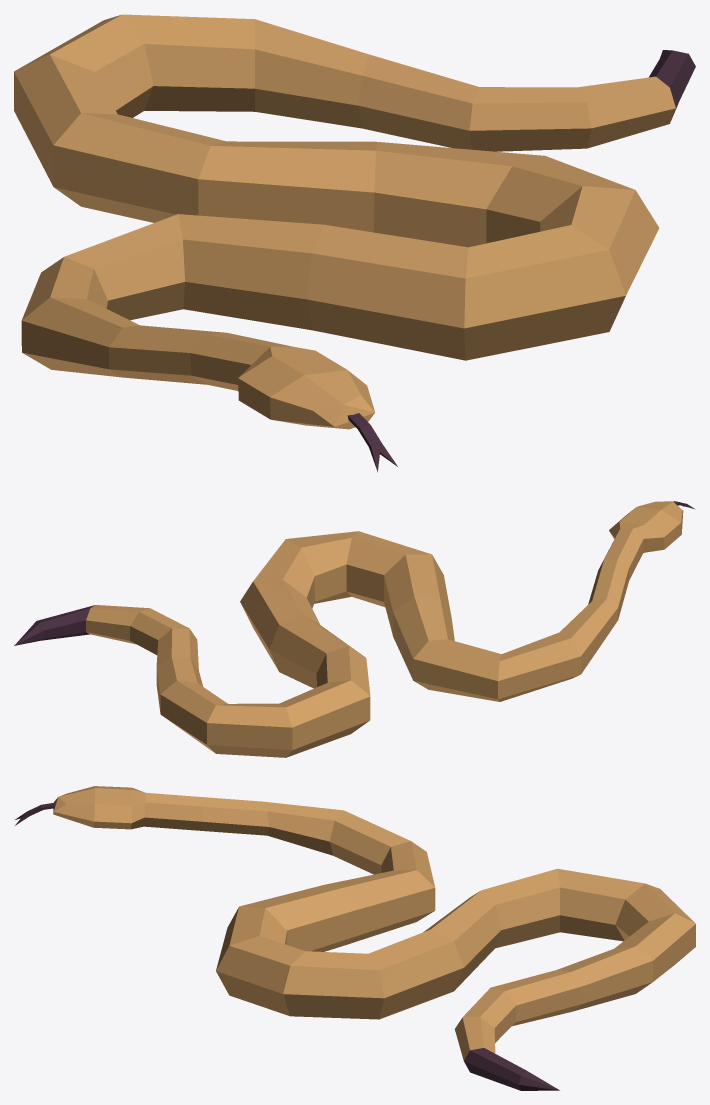
The model's file is snake.glb.
3 views of the same model, one above another, from view 1: azimuth 30°, elevation 25°; view 2: azimuth 150°, elevation 25°; view 3: azimuth 270°, elevation 25° (orthographic). The views are drawn at different scales.
Visible parts, largest first — view 1: snake; view 2: snake; view 3: snake.
Boxes of the visible parts, x1,y1,x2,y2 form: snake: (14, 14, 695, 472); snake: (14, 501, 695, 757); snake: (15, 786, 695, 1090).
Bounding box in the file's own units: 0.8277 × 0.1628 × 0.991.
Materials: 1 (1 with a texture image).
